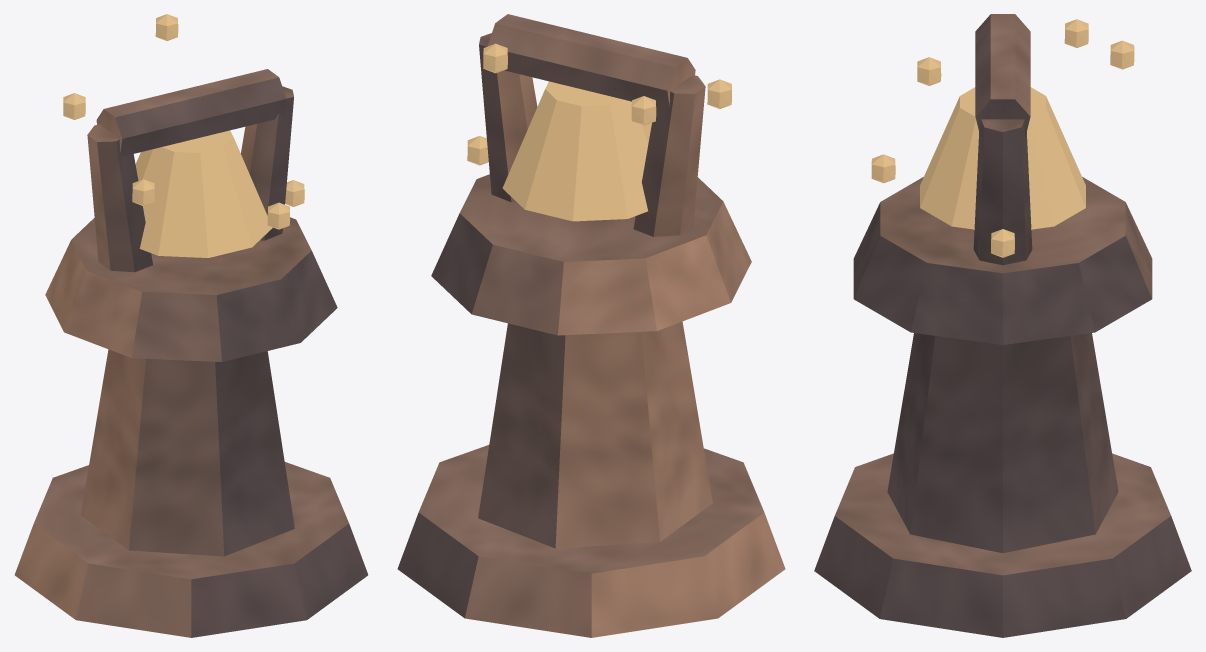
File: resonance_klamm_lit.glb
3 renders of one model, left to right at view 1: azimuth 30°, elevation 25°; view 2: azimuth 150°, elevation 25°; view 3: azimuth 270°, elevation 25°, orthographic. The views are drawn at different scales.
Parts seen in each view (by area): view 1: Klangstein klamm · wach; view 2: Klangstein klamm · wach; view 3: Klangstein klamm · wach.
Part boxes in pixels (<box>): Klangstein klamm · wach: <box>14,14,368,637</box>; Klangstein klamm · wach: <box>397,14,785,637</box>; Klangstein klamm · wach: <box>814,14,1191,637</box>.
Size of the model in its own units: 1.07 by 1.69 by 1.08.
2 materials, 1 textured.
